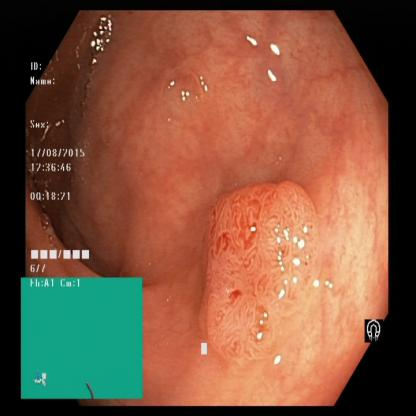Labels: (26, 59, 104, 276), (21, 275, 144, 400), (361, 308, 391, 347)
Polyps: (200, 182, 320, 348)
